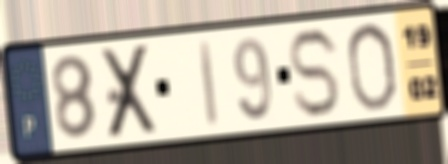8: (49, 52, 100, 143)
9: (231, 35, 274, 123)
I: (196, 36, 221, 130)
O: (344, 19, 399, 115)
S: (286, 24, 345, 122)
X: (98, 40, 162, 143)
